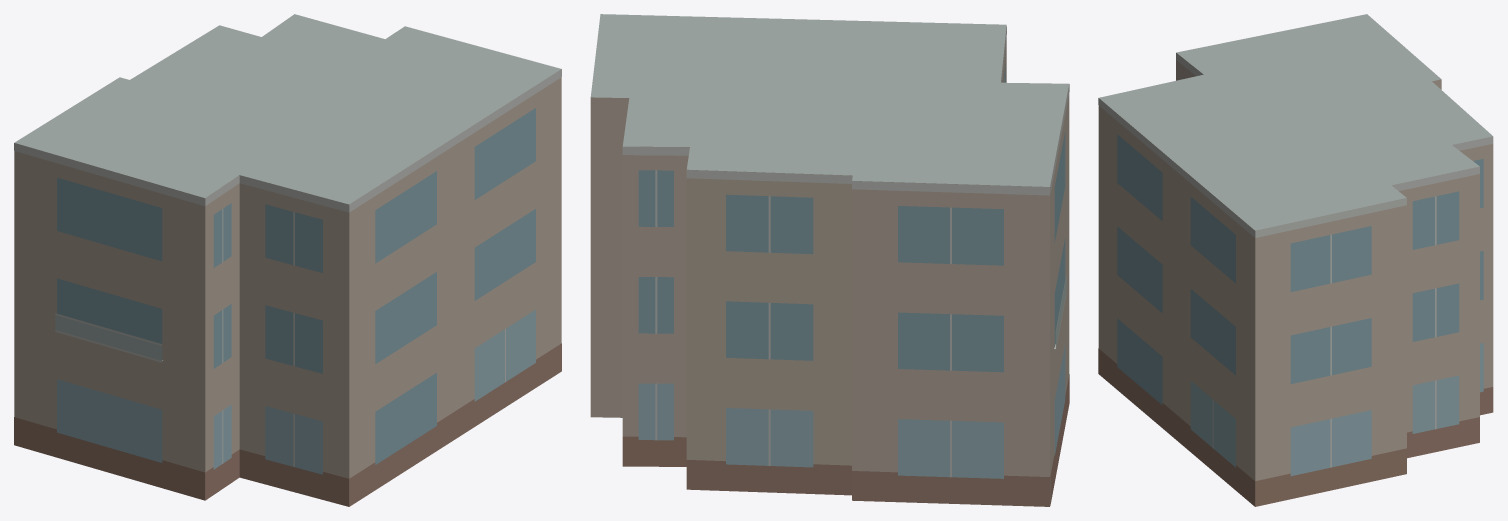
The model's file is survey-upis-32602863.glb.
3 renders of one model, left to right at view 1: azimuth 30°, elevation 25°; view 2: azimuth 150°, elevation 25°; view 3: azimuth 270°, elevation 25°, orthographic. The views are drawn at different scales.
Parts seen in each view (by area): view 1: survey-upis-32602863.tmp; view 2: survey-upis-32602863.tmp; view 3: survey-upis-32602863.tmp.
Boxes of the visible parts, box(x1,y1,x2,y2) form: survey-upis-32602863.tmp: box(14, 14, 561, 506); survey-upis-32602863.tmp: box(590, 14, 1069, 506); survey-upis-32602863.tmp: box(1098, 14, 1493, 506).
Bounding box in the file's own units: 15.41 × 9.15 × 11.87.
